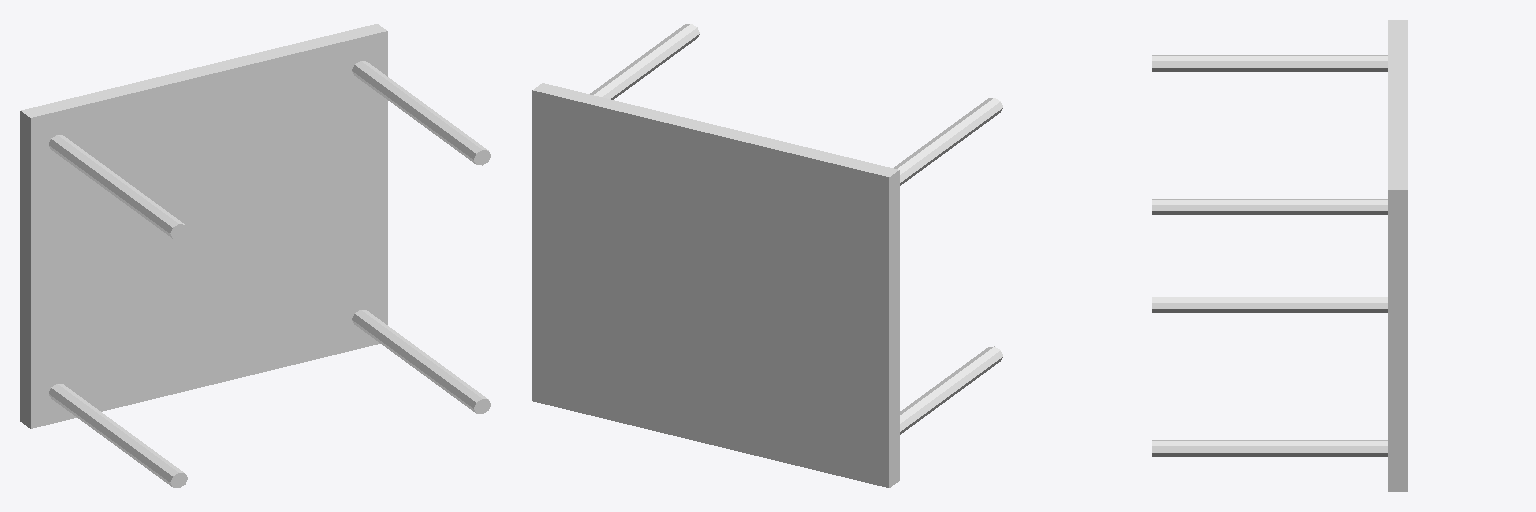
URDF robot description (lab_white_table_big_1):
<?xml version="1.0"?>
<robot name="lab_white_table_big_1">
	<link name="base">
        <inertial>
        	<origin xyz="0 0 0" rpy="0 0 0"/>
        	<mass value="0.05"/>
            <inertia ixx="0.000683333"  ixy="0"  ixz="0" iyy="0.000683333" iyz="0" izz="0.000683333" />
        </inertial>
        <visual>
            <!--origin xyz="0.001 0.00288 -0.013" rpy="0 0 0" /-->
            <origin xyz="0.0 0.0 0.0" rpy="0 0 0" />
            <geometry>
                <mesh filename="ioclab_files/white_table_995_1195_765.dae" scale="1 1 1"/>
            </geometry>
            <!--
            <material>
                <color rgba="1 0 0 1" />
            </material>
            -->
        </visual>
        <collision>
            <geometry>
                <mesh filename="ioclab_files/white_table_995_1195_765.dae" scale="1 1 1"/>
            </geometry>
            <material>
                <color rgba="1 0 0 1" />
            </material>
        </collision>
	</link>
</robot>

--- What the picture shows (computed from the rendered views, not written in the file) ---
Views: 3 orthographic renders of the robot side by side, from view 1: azimuth 30°, elevation 25°; view 2: azimuth 150°, elevation 25°; view 3: azimuth 270°, elevation 25°.
Model lab_white_table_big_1 with 1 links and 0 joints (none), rooted at base, posed every joint at zero.
Visible links, largest first — view 1: base; view 2: base; view 3: base.
Boxes of the visible links, <box> form: base: <box>20,24,490,487</box>; base: <box>532,24,1002,487</box>; base: <box>1152,20,1407,491</box>.
Size in the robot's own frame: 1.2 by 0.765 by 0.995 metres.
1 mesh visuals loaded from 1 distinct referenced files (1 Collada DAE).
